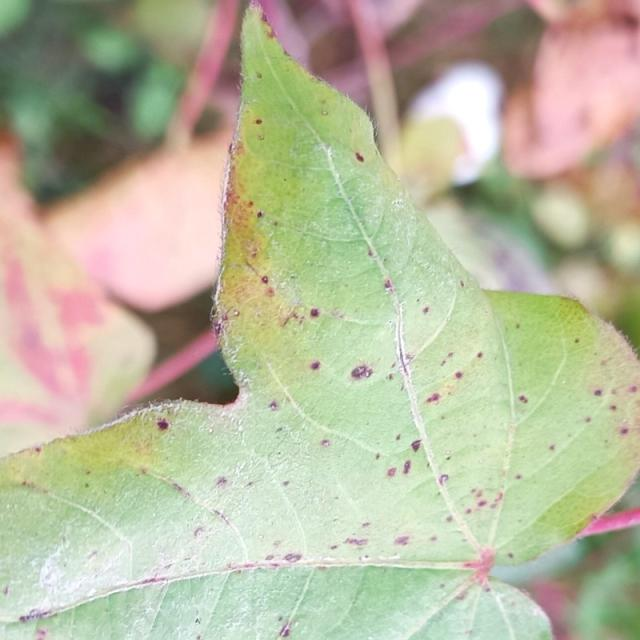Bacterial_Blight: (465, 479, 507, 517), (266, 607, 299, 640), (375, 455, 407, 486), (418, 383, 449, 413), (581, 377, 611, 405), (149, 409, 176, 439), (277, 543, 305, 571), (346, 361, 377, 385), (372, 271, 402, 294), (301, 301, 328, 323), (391, 532, 416, 555), (210, 469, 234, 492), (449, 362, 472, 386), (255, 265, 277, 290), (420, 293, 436, 325), (305, 354, 327, 377), (623, 373, 640, 402), (613, 421, 635, 443), (349, 145, 369, 169), (261, 393, 283, 414), (404, 434, 427, 454), (250, 205, 269, 223), (513, 389, 529, 407)
Cotton: (0, 7, 639, 639)
